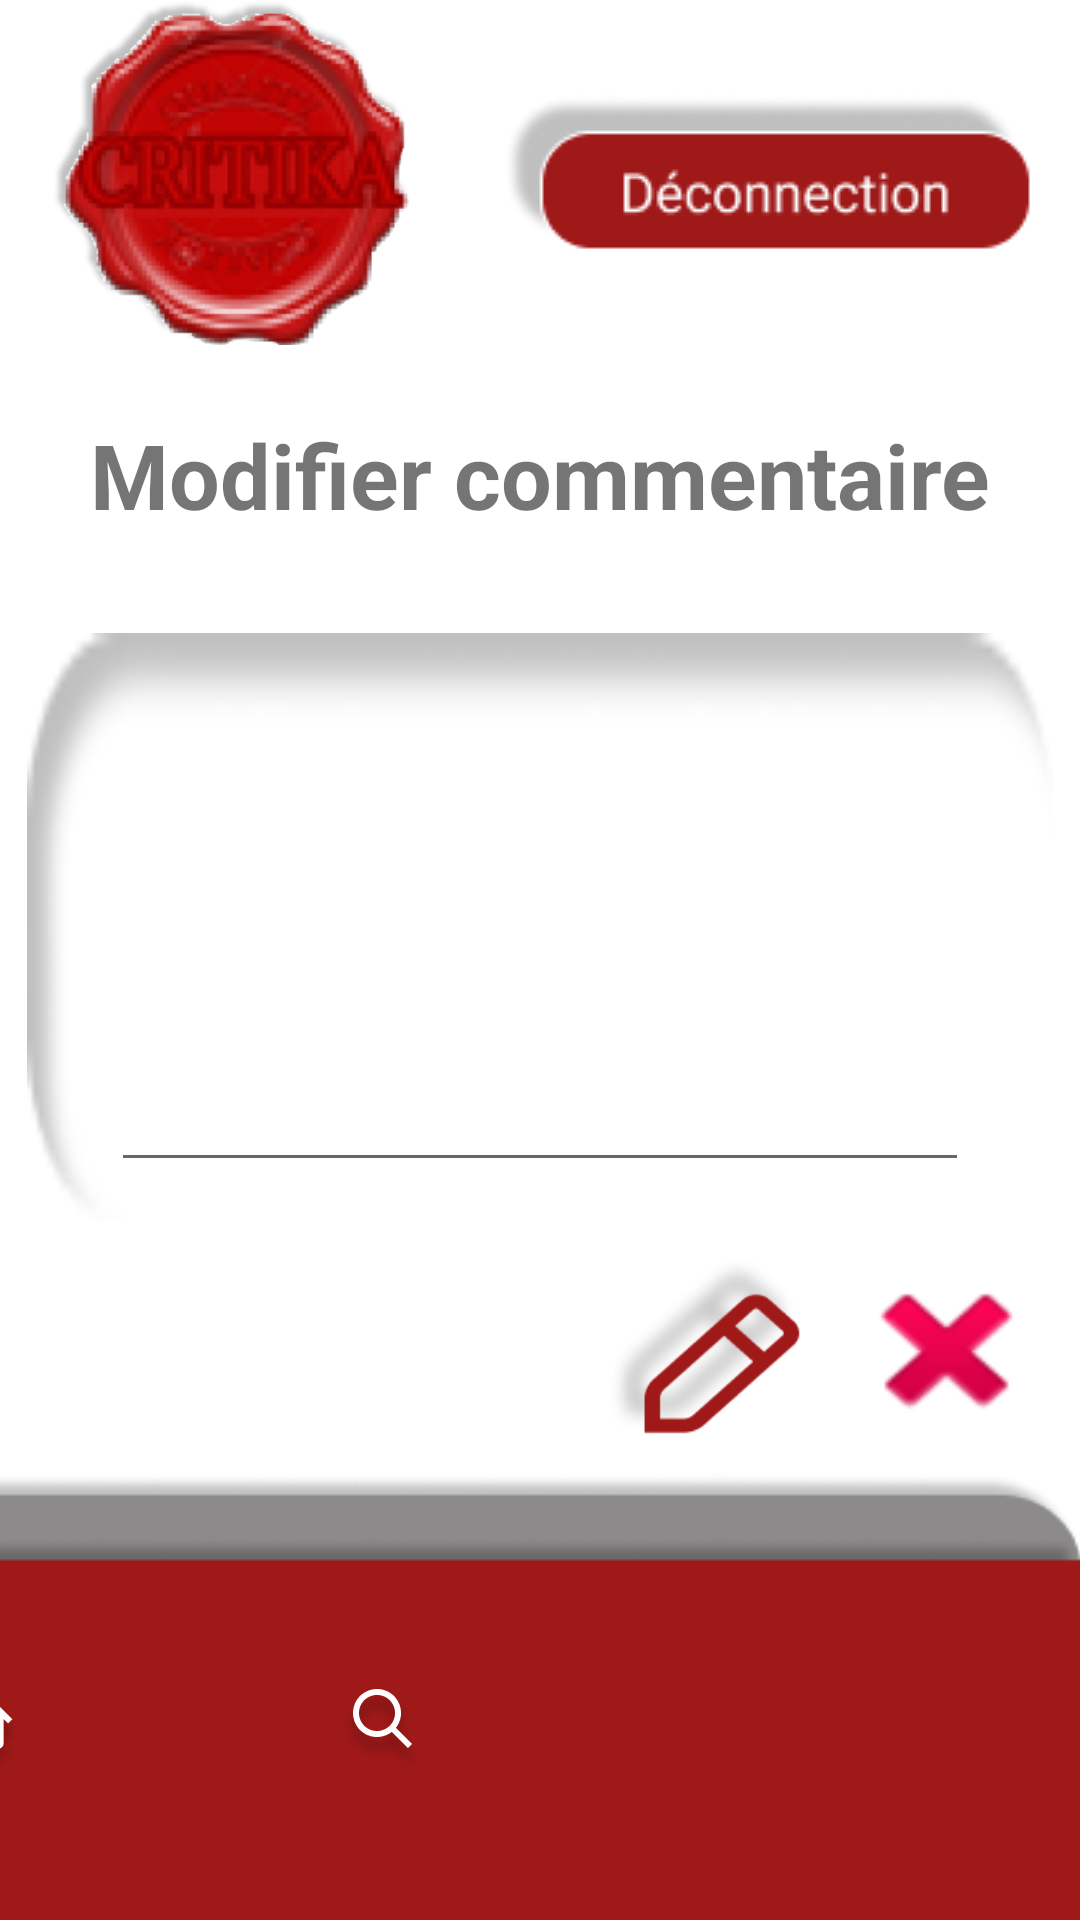

Named icons in this screenshot (1080px×1920px) and their centers, [x,y]:
delete: [946,1351]
pencil create: [712,1354]
search: [382,1718]
